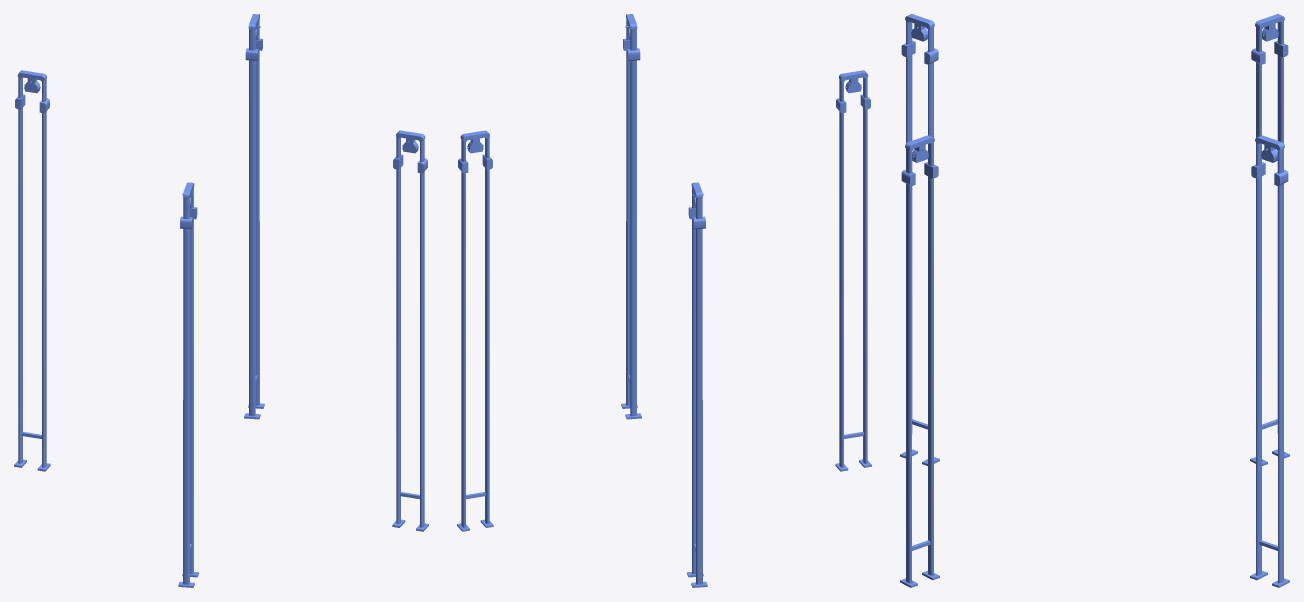
Rendered from Small_Post_3.fbx.
3 renders of one model, left to right at view 1: azimuth 30°, elevation 25°; view 2: azimuth 150°, elevation 25°; view 3: azimuth 270°, elevation 25°, orthographic. The views are drawn at different scales.
Parts seen in each view (by area): view 1: 円.002; view 2: 円.002; view 3: 円.002.
Part boxes in pixels (x1,y1,x2,y2): 円.002: (14, 14, 428, 587); 円.002: (457, 14, 871, 587); 円.002: (900, 14, 1289, 587).
Bounding box in the file's own units: 270 × 405 × 325.
